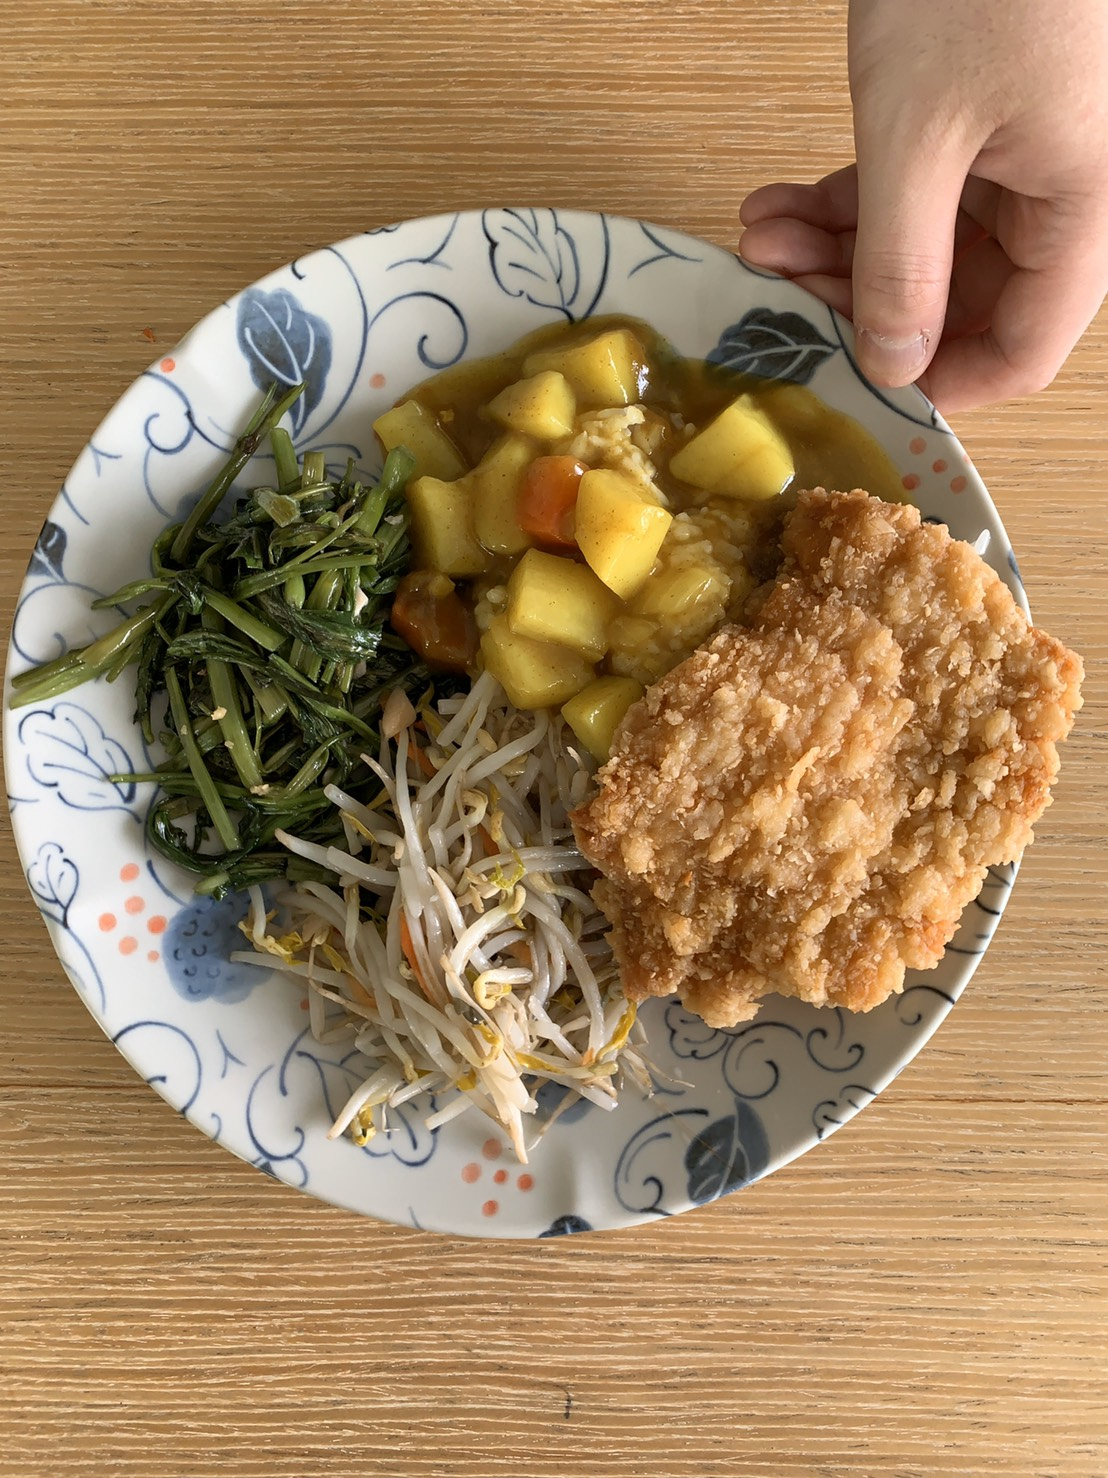curry: (413, 367, 754, 621)
fried_chicken: (656, 559, 1017, 986)
mung_bean_sprouts: (340, 740, 594, 1082)
water_spinach: (136, 476, 358, 811)
